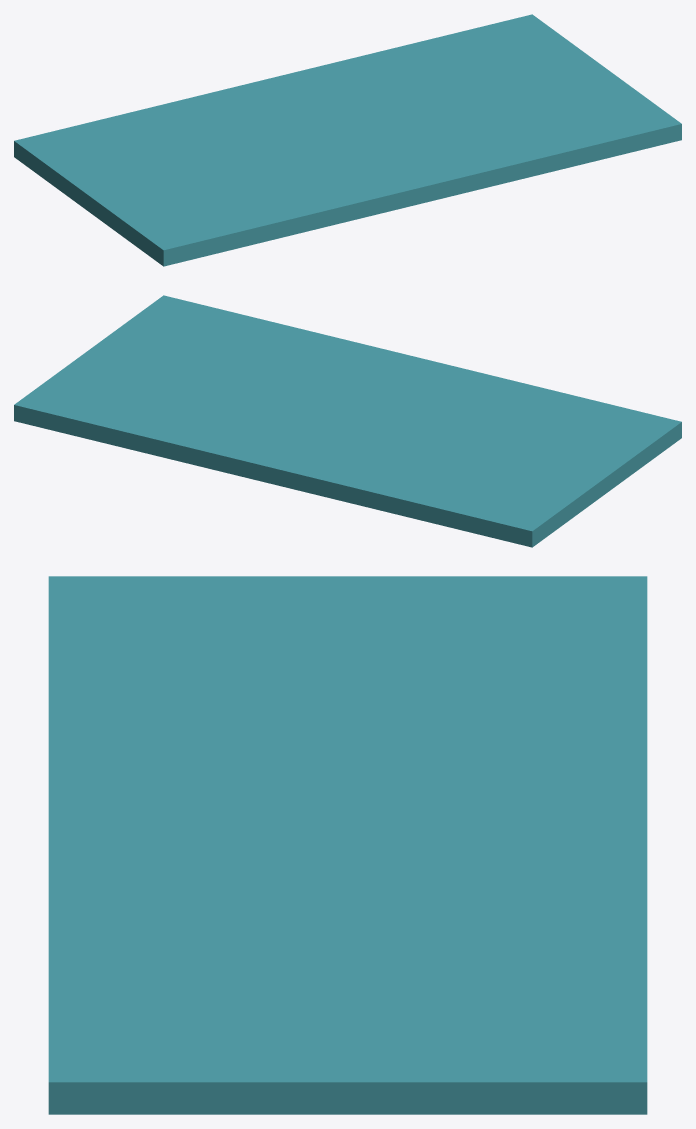
The model's file is W09_Lake_Inlet_4m.fbx.
The picture shows the model from 3 angles, top to bottom: view 1: azimuth 30°, elevation 25°; view 2: azimuth 150°, elevation 25°; view 3: azimuth 270°, elevation 25°; orthographic projection. The views are drawn at different scales.
Visible parts, largest first — view 1: W09_Lake_Inlet_4m; view 2: W09_Lake_Inlet_4m; view 3: W09_Lake_Inlet_4m.
Part boxes in pixels (x1,y1,x2,y2): W09_Lake_Inlet_4m: (14,14,681,266); W09_Lake_Inlet_4m: (14,295,681,547); W09_Lake_Inlet_4m: (48,576,647,1114).
Size of the model in its own units: 4 by 0.12 by 2.
